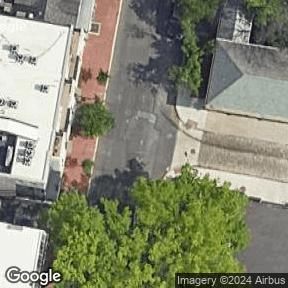vegetation: (35, 153, 263, 288), (69, 94, 119, 145), (245, 0, 288, 48), (95, 68, 109, 88), (81, 159, 93, 175)
